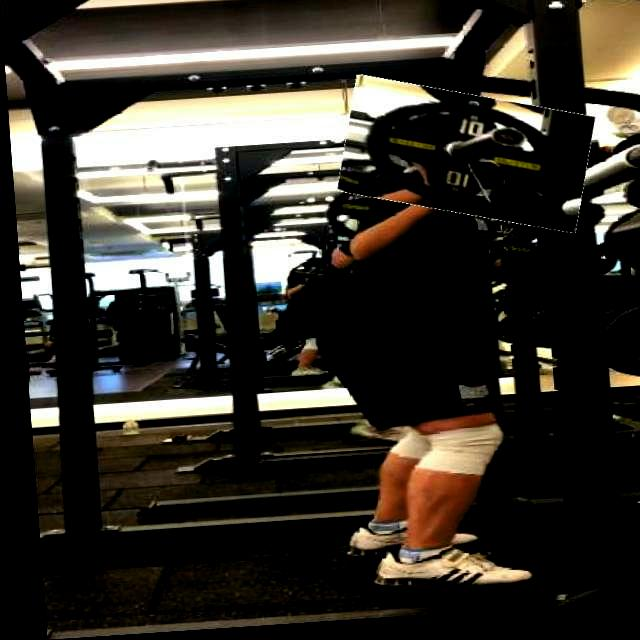barbell: (334, 81, 594, 241)
